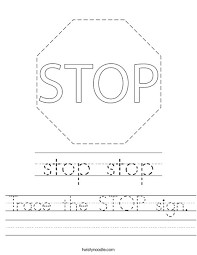SS: (34, 27, 161, 144)
